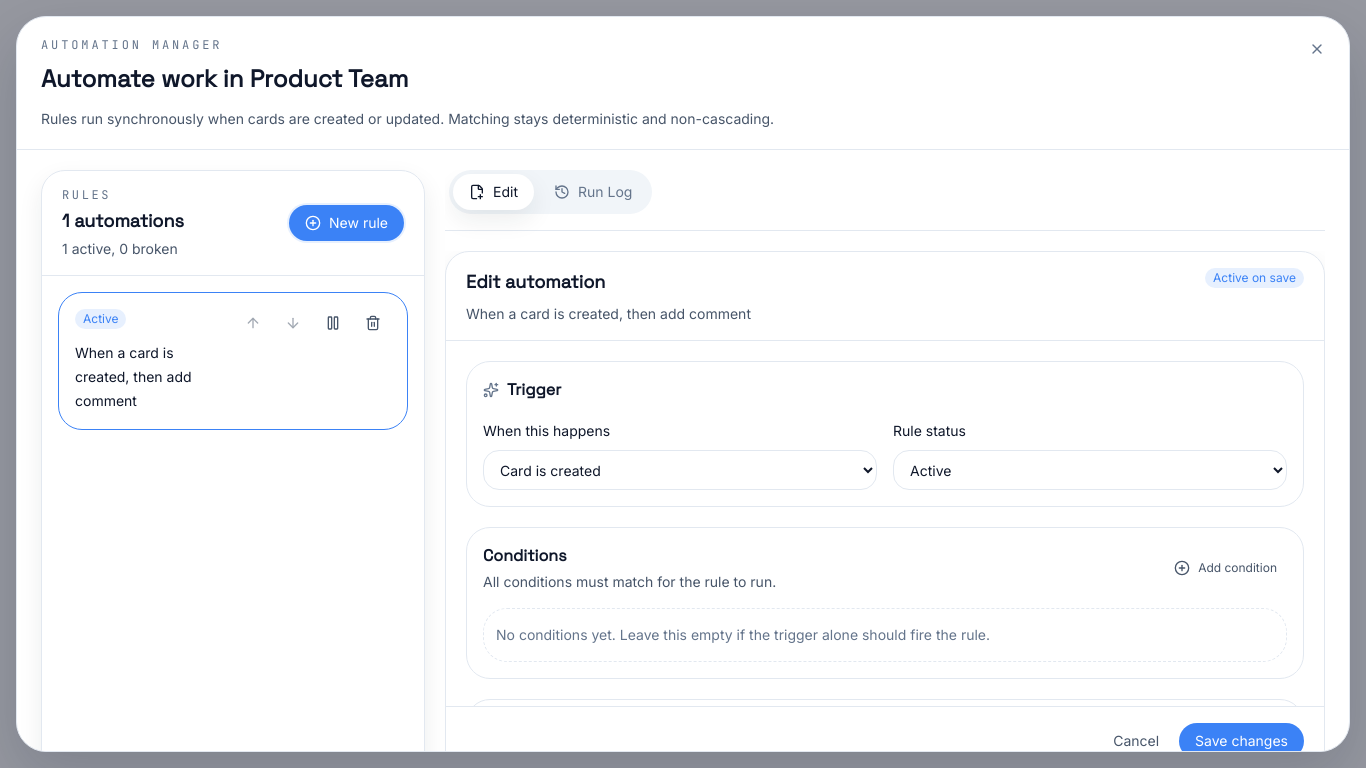
Test: AutomationManagerDialog › switches to the run log tab and shows project-wide execution history
The width and height of the screenshot is (1366, 768).
Click the tab "Run Log".
click(593, 192)  # box [538,174,648,210]
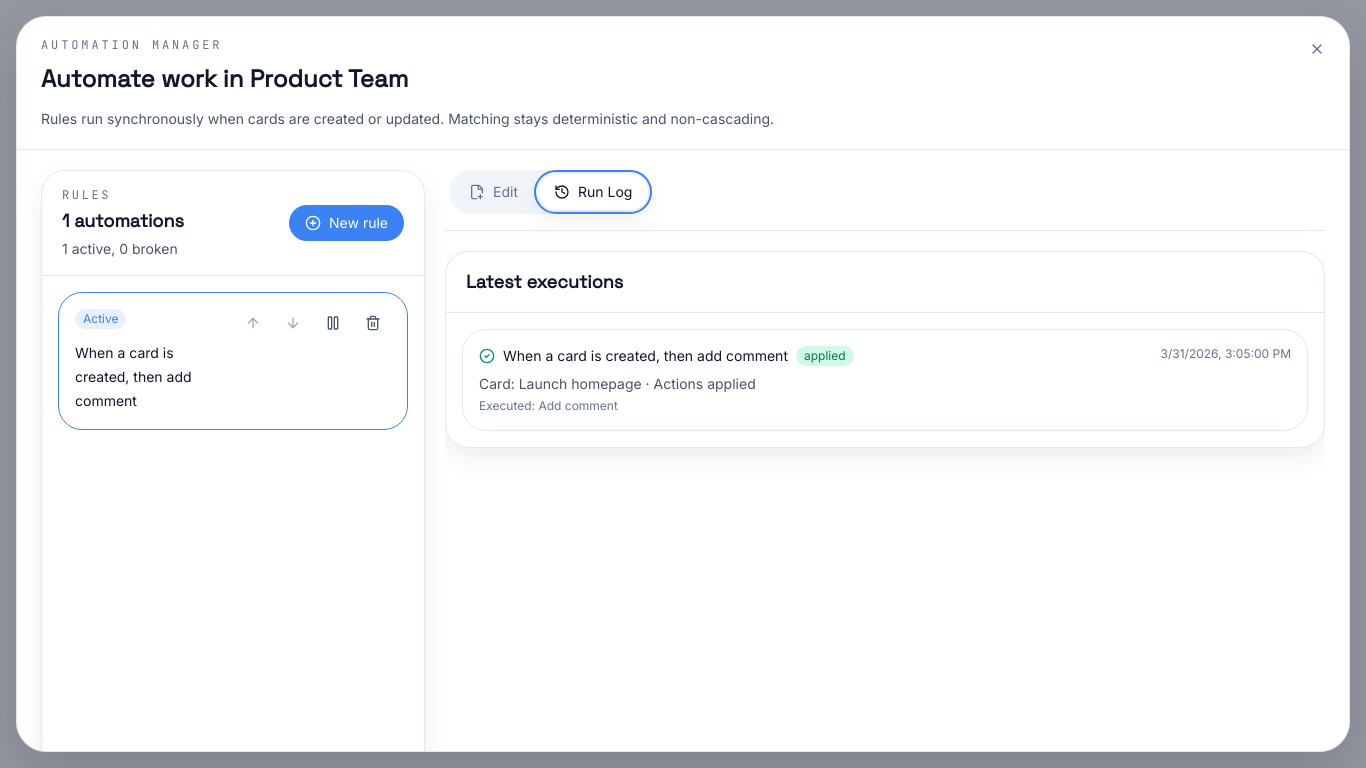
Now the heading "Latest executions" is shown, box [466,270,623,293]
Now the text "Card: Launch homepage · Actions applied" is shown, box [479,375,756,392]
Now the heading "Edit automation" is gone
